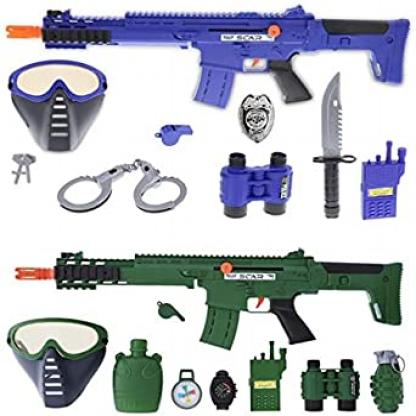Grenade: (367, 347, 407, 416)
Gun: (4, 3, 410, 109), (14, 244, 404, 351)
Knife: (311, 69, 358, 220)
